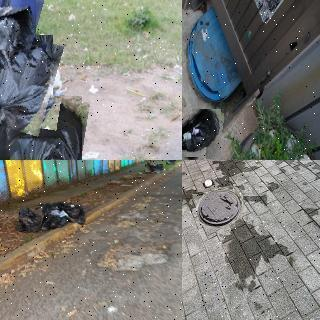Garbage: (0, 31, 58, 132), (0, 93, 86, 160), (0, 0, 40, 69), (182, 107, 222, 158), (18, 209, 43, 233), (35, 204, 58, 216), (65, 206, 82, 218), (145, 163, 164, 173), (166, 160, 176, 164)
